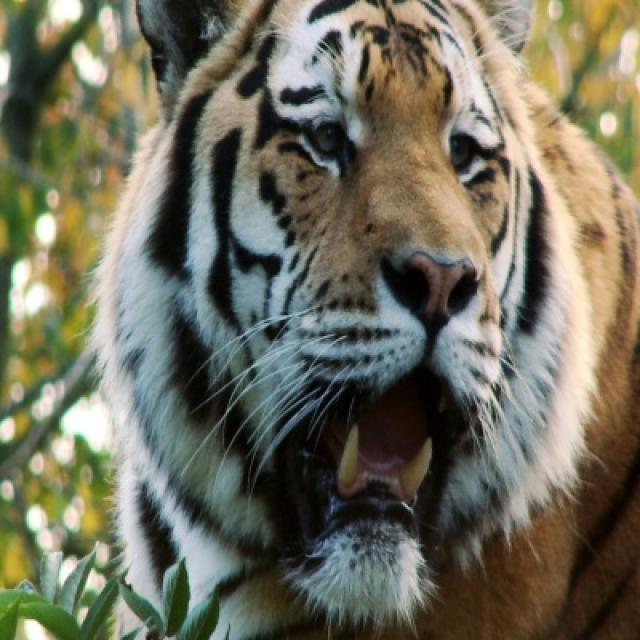Tiger: (111, 0, 638, 638)
